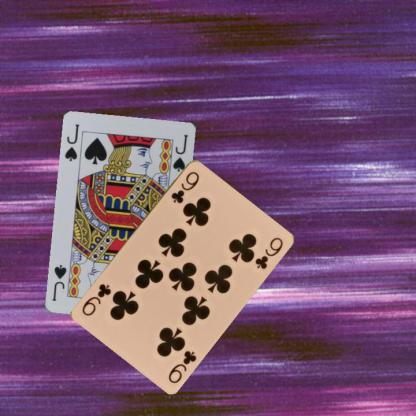9c: (168, 168, 201, 205), (165, 347, 198, 384)
Js: (62, 121, 81, 163)
